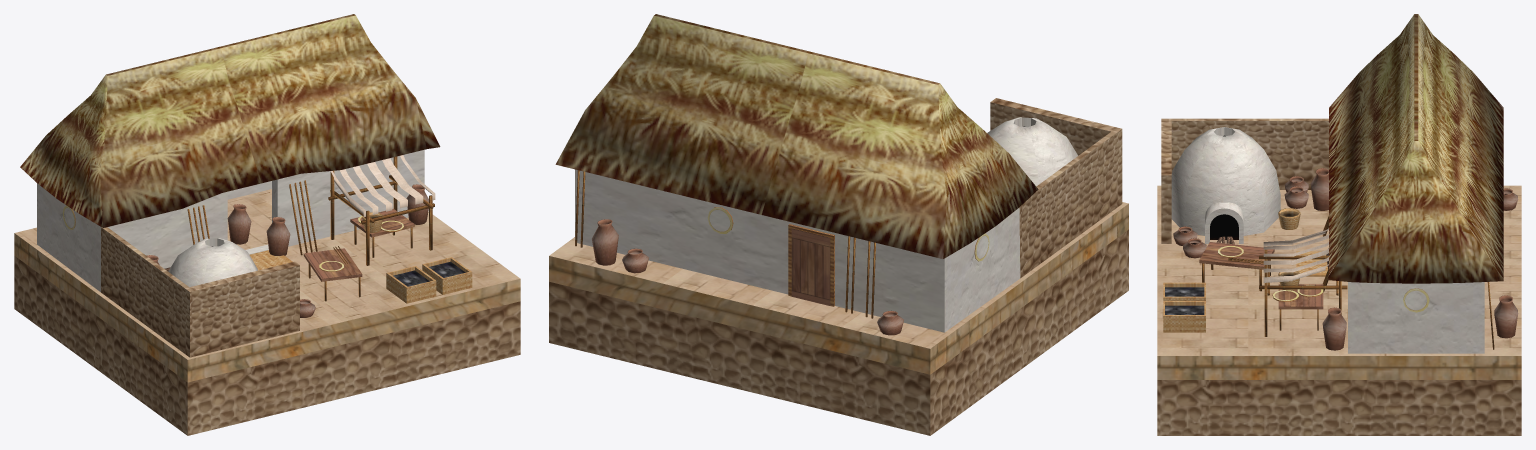
The model's file is elmirador_blacksmith.dae.
The picture shows the model from 3 angles, left to right: view 1: azimuth 30°, elevation 25°; view 2: azimuth 150°, elevation 25°; view 3: azimuth 270°, elevation 25°; orthographic projection. The views are drawn at different scales.
Parts seen in each view (by area): view 1: blacksmith; view 2: blacksmith; view 3: blacksmith.
Part boxes in pixels (x1=…): blacksmith: x1=14, y1=14, x2=520, y2=435; blacksmith: x1=549, y1=14, x2=1128, y2=435; blacksmith: x1=1157, y1=14, x2=1521, y2=435.
Size of the model in its own units: 20.34 by 17.54 by 14.53.
Materials: 1 (1 with a texture image).
